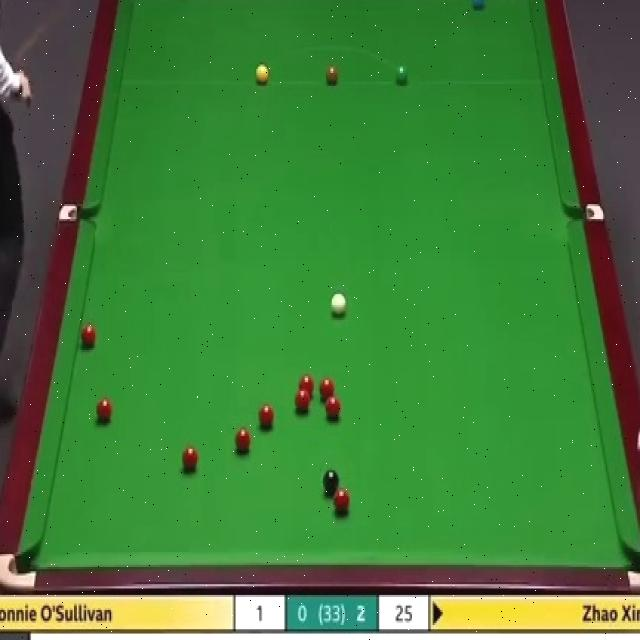black-ball: (323, 468, 342, 496)
blue-ball: (471, 0, 485, 11)
brown-ball: (325, 64, 339, 85)
green-ball: (393, 65, 408, 85)
red-ball: (182, 444, 202, 475), (233, 428, 250, 456), (80, 325, 97, 352), (258, 402, 274, 428), (97, 396, 113, 422), (334, 489, 351, 513), (296, 391, 312, 414), (298, 374, 314, 396), (320, 378, 335, 400), (324, 394, 339, 416)
white-ball: (328, 293, 347, 316)
yellow-ball: (255, 64, 269, 85)
